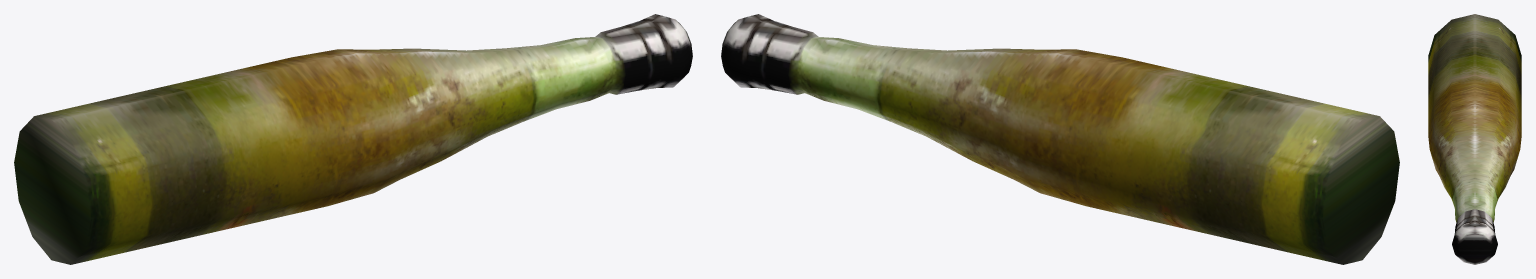
File: bottle.obj
3 views of the same model, side by side, from view 1: azimuth 30°, elevation 25°; view 2: azimuth 150°, elevation 25°; view 3: azimuth 270°, elevation 25° (orthographic). The views are drawn at different scales.
Visible parts, largest first — view 1: def_surf_mat; view 2: def_surf_mat; view 3: def_surf_mat.
Part boxes in pixels (x1,y1,x2,y2): def_surf_mat: [14, 14, 692, 264]; def_surf_mat: [721, 14, 1399, 264]; def_surf_mat: [1428, 14, 1521, 264].
Bounding box in the file's own units: 15.72 × 3.41 × 3.32.
Materials: 1 (1 with a texture image).
